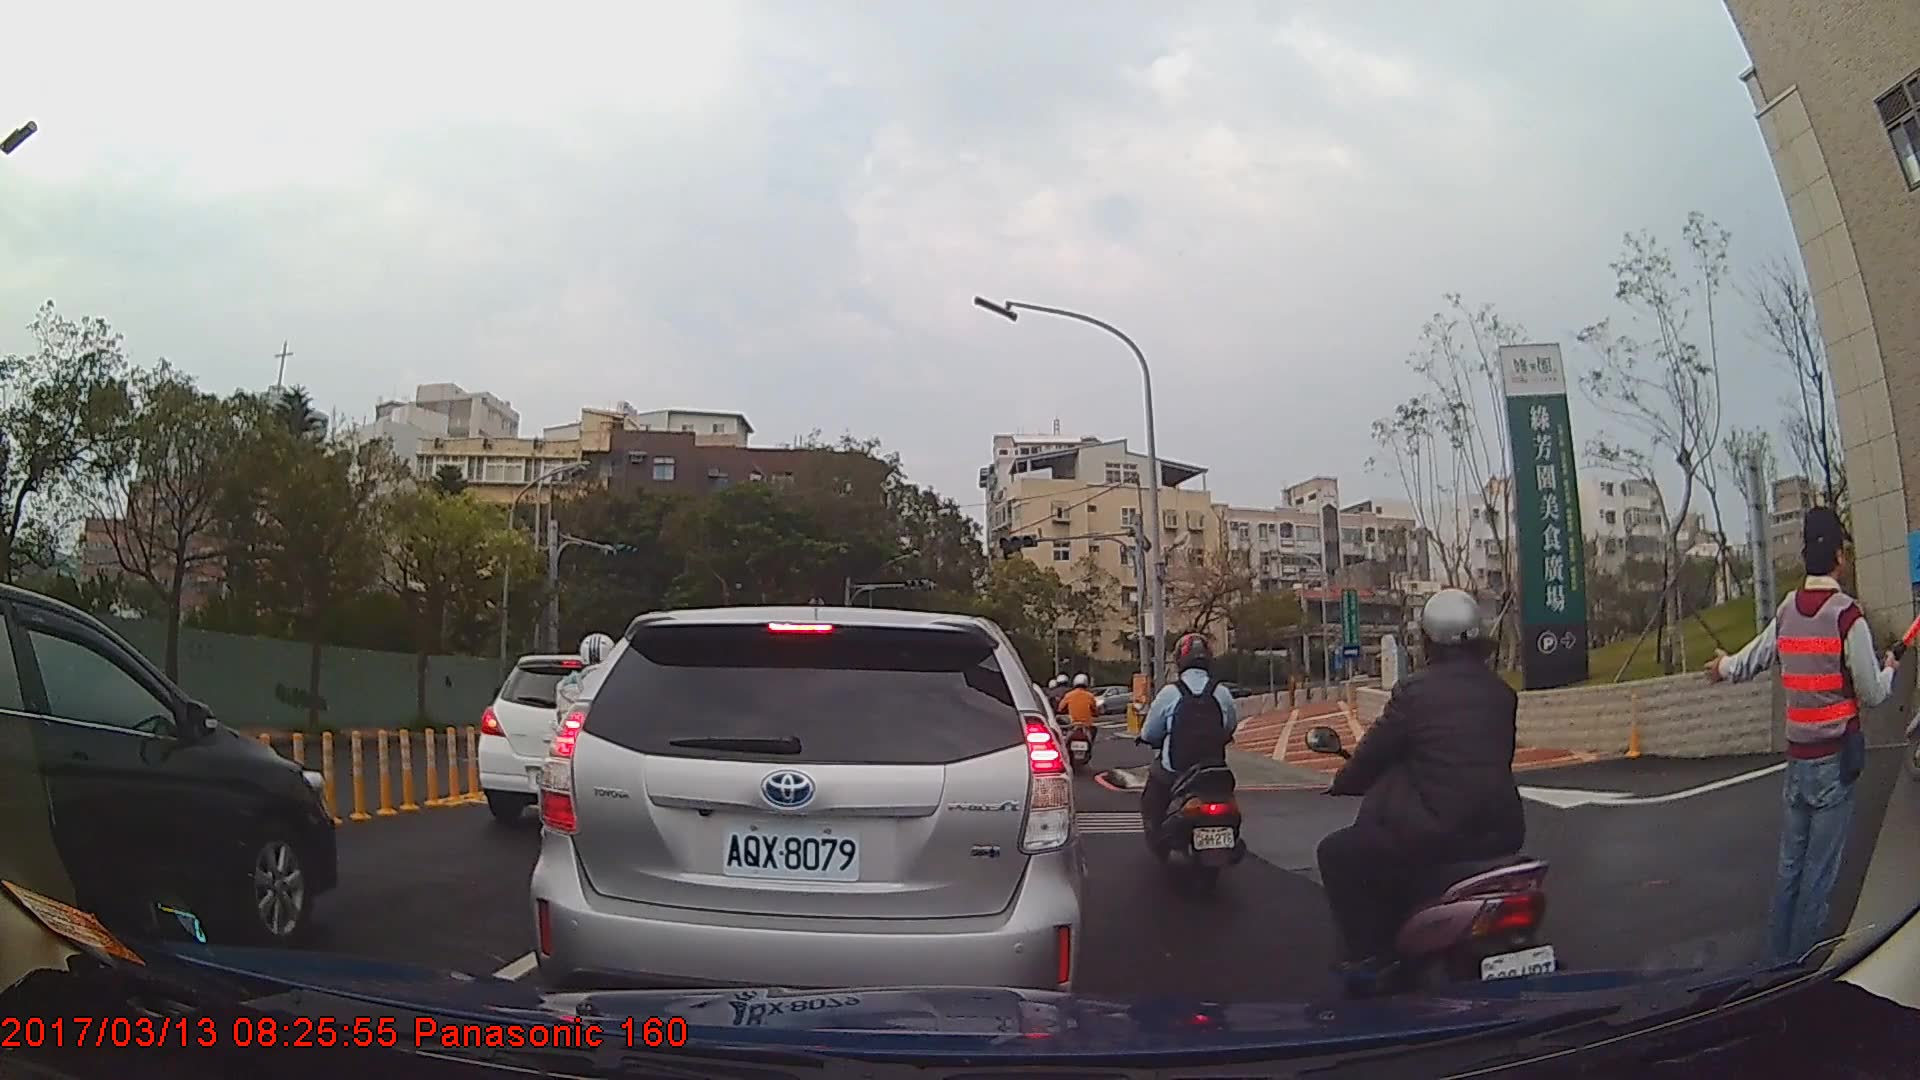pedestrian: (1702, 503, 1903, 1003)
rider: (1317, 586, 1566, 1028), (1135, 634, 1238, 898), (1060, 672, 1101, 765)
vehicle: (529, 603, 1088, 1018), (0, 579, 336, 962), (477, 653, 648, 820)
